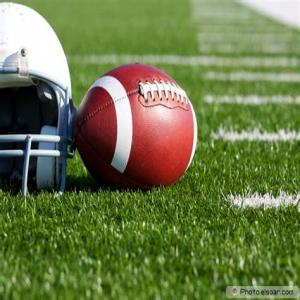Rugby: (74, 62, 198, 189)
